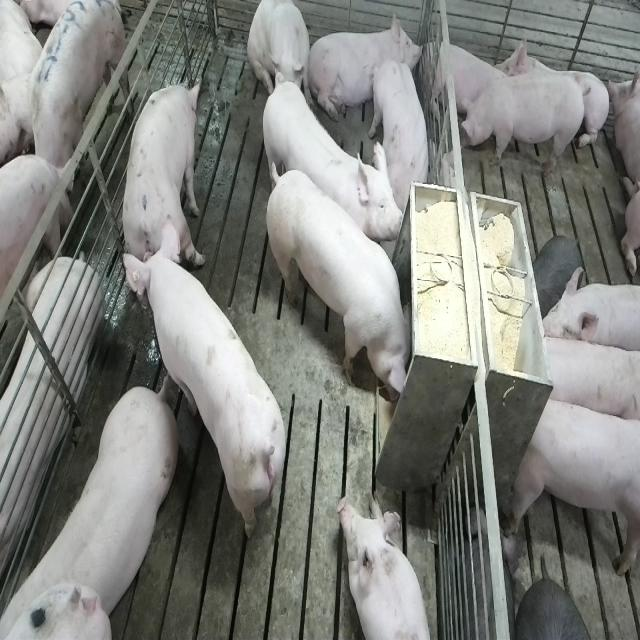Feeding: (270, 163, 421, 406)
Lateral_lying: (0, 170, 101, 588)
Sitting: (248, 1, 311, 108)
Standing: (128, 241, 292, 547), (6, 376, 182, 634), (506, 389, 638, 587), (256, 80, 401, 256), (24, 0, 126, 209), (119, 76, 206, 278), (456, 75, 585, 183), (537, 333, 637, 429), (368, 59, 428, 208), (539, 267, 640, 355)
Sternal_lying: (338, 494, 434, 640), (500, 28, 610, 148), (312, 11, 422, 123), (429, 34, 506, 124)
